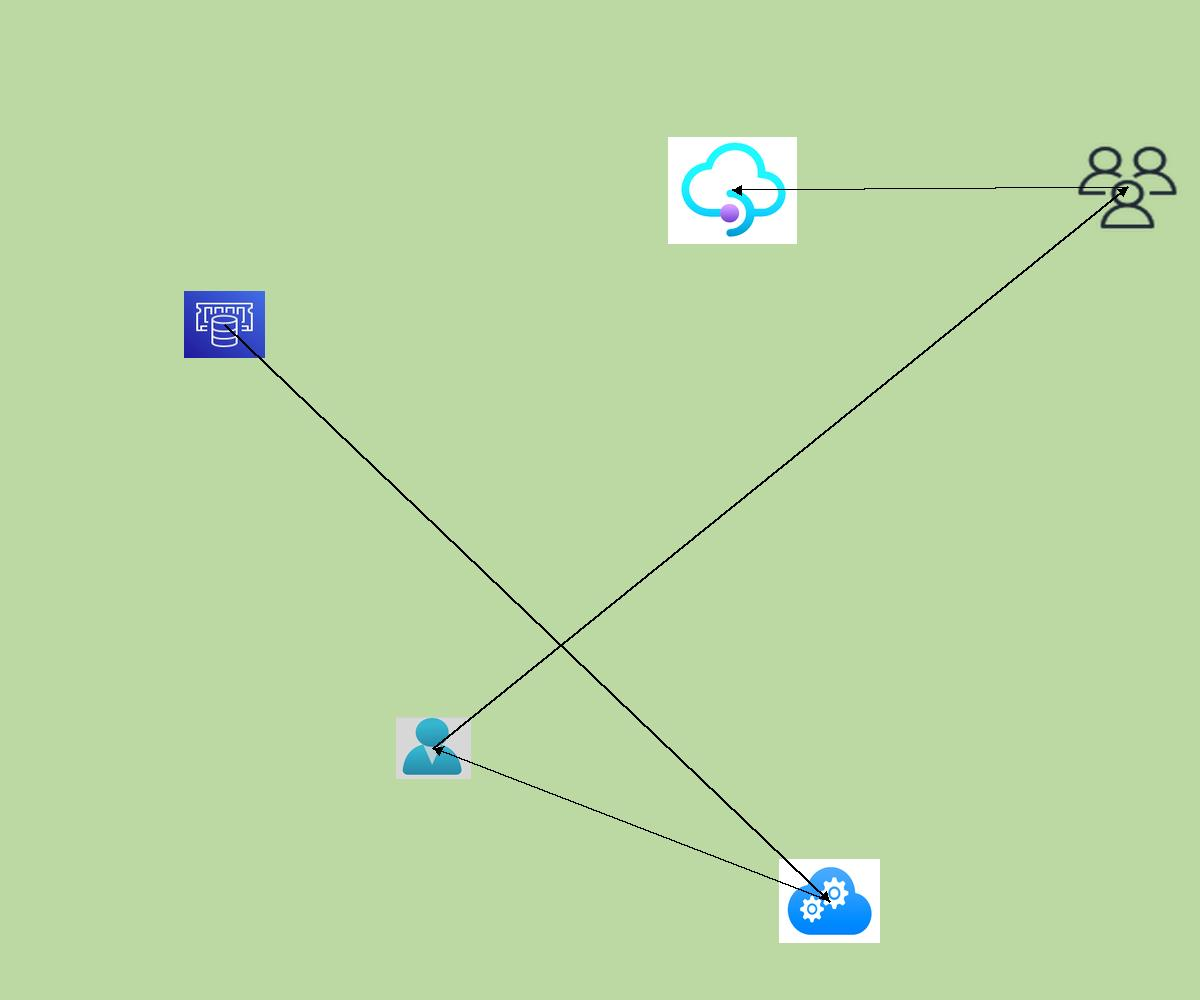AWS-ElastiCache: (184, 291, 265, 358)
AWS-Res_Users: (1074, 143, 1181, 232)
Azure_api_gateway: (668, 137, 797, 244)
Azure_cloud_services: (779, 859, 880, 943)
Azure_users: (396, 717, 471, 779)
